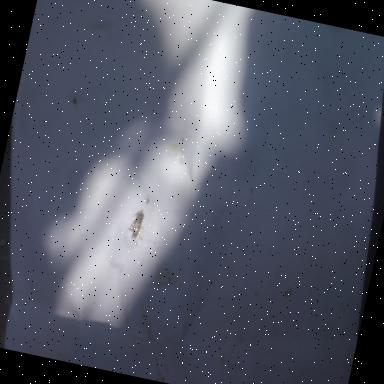pbw: (125, 205, 146, 240)
